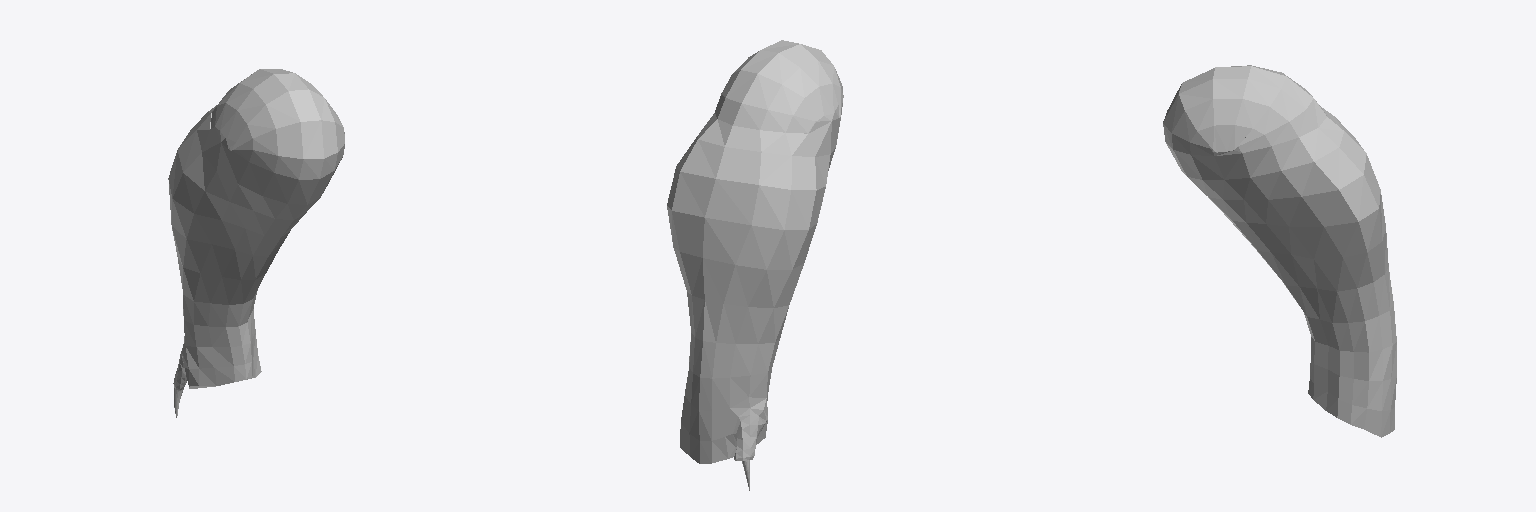
File: pieDer1.obj
3 renders of one model, left to right at view 1: azimuth 30°, elevation 25°; view 2: azimuth 150°, elevation 25°; view 3: azimuth 270°, elevation 25°, orthographic.
Parts seen in each view (by area): view 1: polySurface10; view 2: polySurface10; view 3: polySurface10.
Part boxes in pixels (x1,y1,x2,y2): polySurface10: (168,69,344,417); polySurface10: (667,40,843,490); polySurface10: (1163,65,1396,437).
Size of the model in its own units: 1.49 by 4.39 by 2.43.